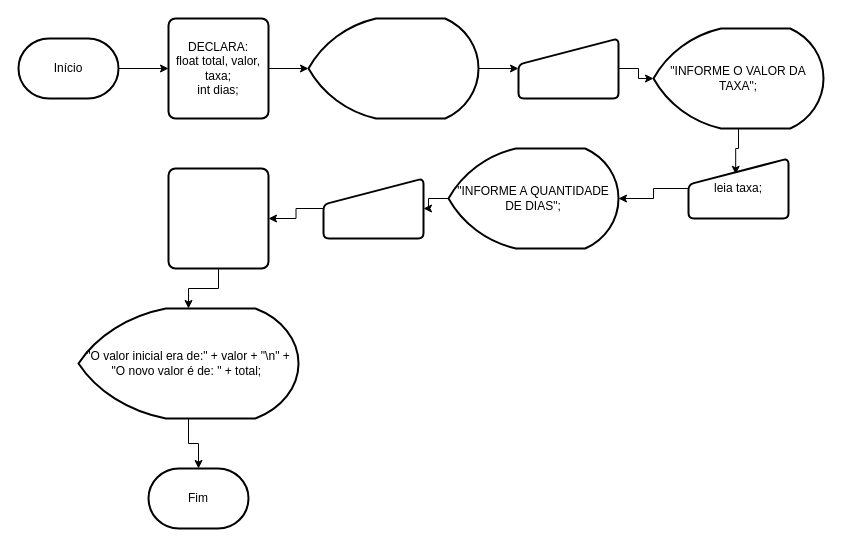
Some shapes in this 841 by 546 pixel diagram are drawn without their labels. The centre of each missing label's shape, as x and y in pixels:
"INFORME O VALOR DA PRESTAÇÃO EM ATRASO:";: the point at 393,68
leia dias;: the point at 373,208
leia valor;: the point at 568,68
total = valor + (valor * ((taxa / 100) * dias)): the point at 218,218
